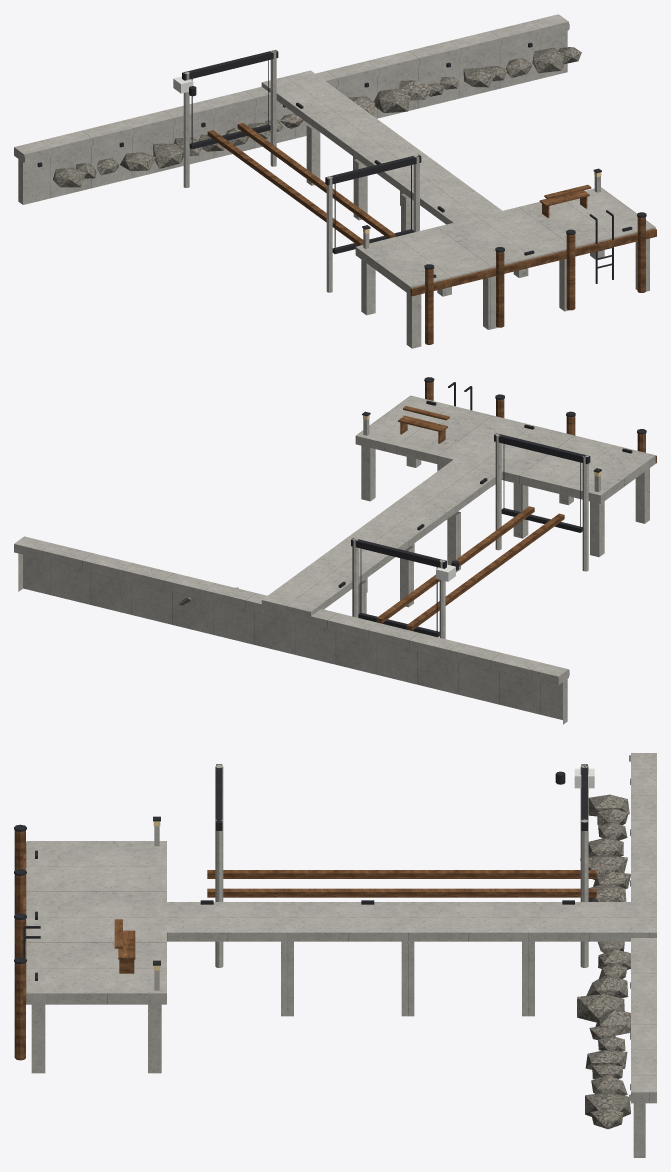
Rendered from gulf_seawall_dock.fbx.
3 views of the same model, one above another, from view 1: azimuth 30°, elevation 25°; view 2: azimuth 150°, elevation 25°; view 3: azimuth 270°, elevation 25° (orthographic). The views are drawn at different scales.
Parts seen in each view (by area): view 1: gulf_seawall_dock_LOD0; view 2: gulf_seawall_dock_LOD0; view 3: gulf_seawall_dock_LOD0.
Part boxes in pixels (x1,y1,x2,y2): gulf_seawall_dock_LOD0: (14, 14, 656, 348); gulf_seawall_dock_LOD0: (14, 377, 656, 724); gulf_seawall_dock_LOD0: (14, 753, 656, 1157).
Size of what is drawn, in the model's own units: 20.08 by 4.2 by 16.01.
1 material, 1 textured.
